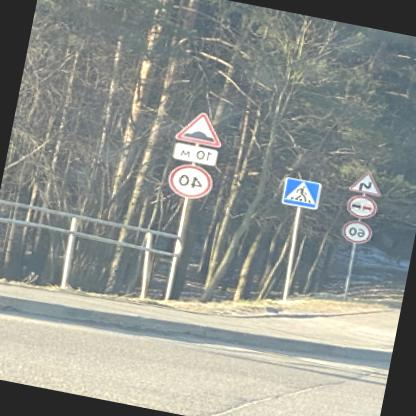crosswalk: (283, 174, 325, 208)
speedlimit: (168, 160, 216, 201), (343, 218, 374, 245)
